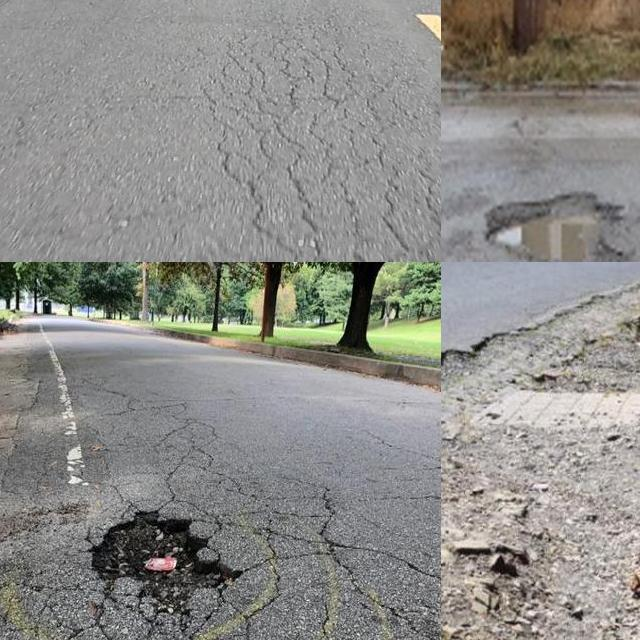Lubang: (93, 510, 237, 619), (485, 197, 640, 262)
Retak Buaya: (217, 37, 441, 262)
